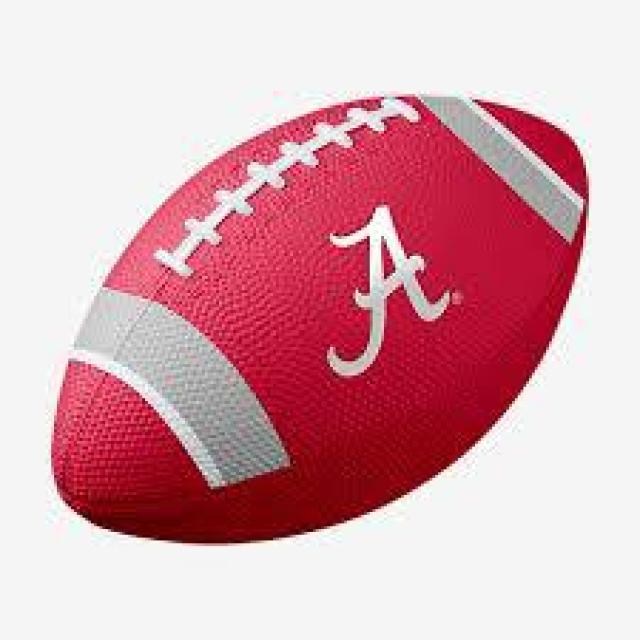ball: (25, 90, 617, 550)
